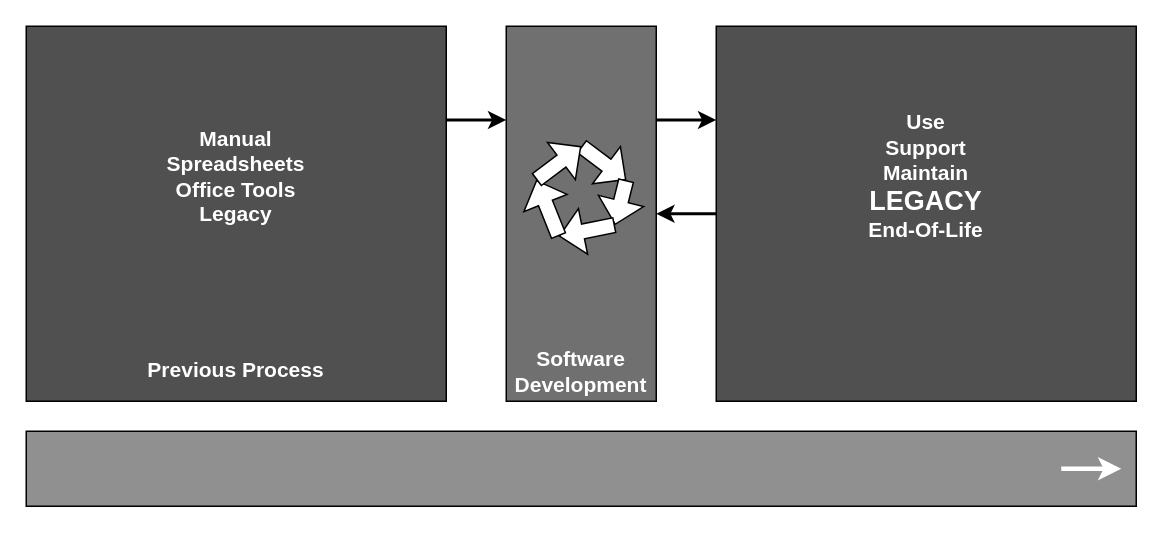
This 1163x533 diagram has some shape labels left out. The shapes that lost their labels are listed below. From the top down, each one's box as (x1, y1, x2, y2) in pixels, then its label:
(715, 25, 1136, 401): Maintenance
(25, 430, 1136, 506): Time
